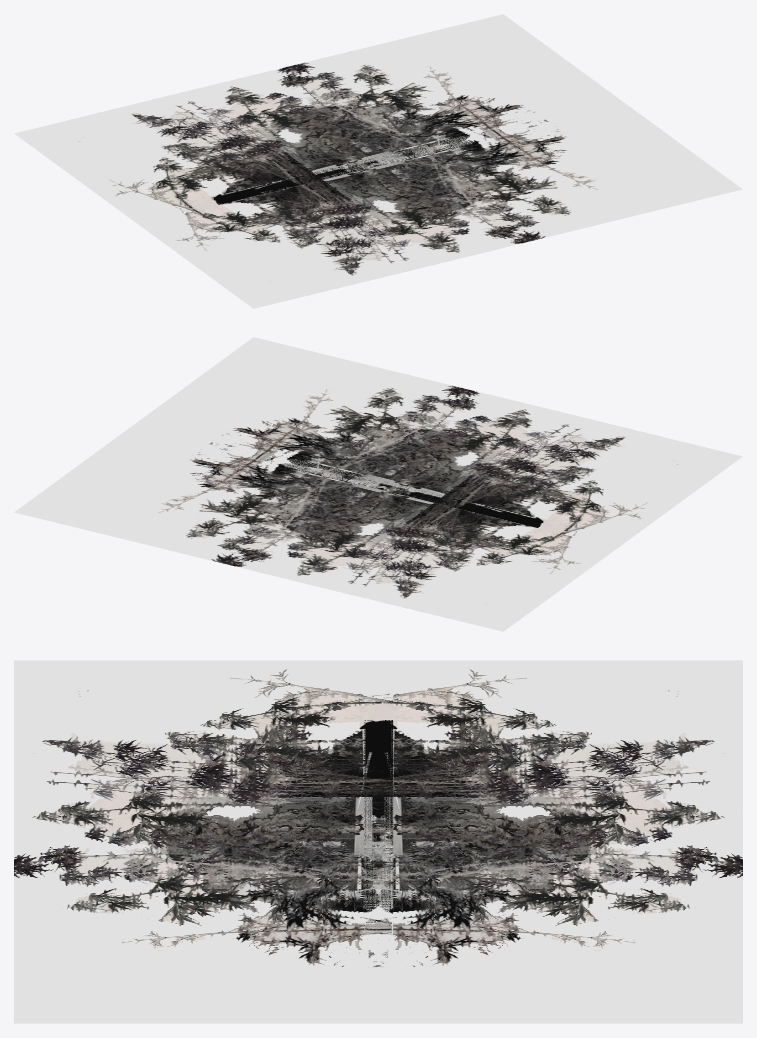
File: PPX_BABU14.fbx
The picture shows the model from 3 angles, top to bottom: view 1: azimuth 30°, elevation 25°; view 2: azimuth 150°, elevation 25°; view 3: azimuth 270°, elevation 25°; orthographic projection. The views are drawn at different scales.
Parts seen in each view (by area): view 1: bamboo.png_2, bamboo.png; view 2: bamboo.png, bamboo.png_2; view 3: bamboo.png, bamboo.png_2.
Boxes of the visible parts, x1,y1,x2,y2 form: bamboo.png_2: (14, 14, 627, 224); bamboo.png: (131, 98, 742, 308); bamboo.png: (130, 337, 742, 547); bamboo.png_2: (14, 421, 617, 631); bamboo.png: (14, 660, 393, 1023); bamboo.png_2: (363, 660, 742, 1023).
Size of the model in its own units: 499 by 423 by 0.
1 material, 1 textured.
